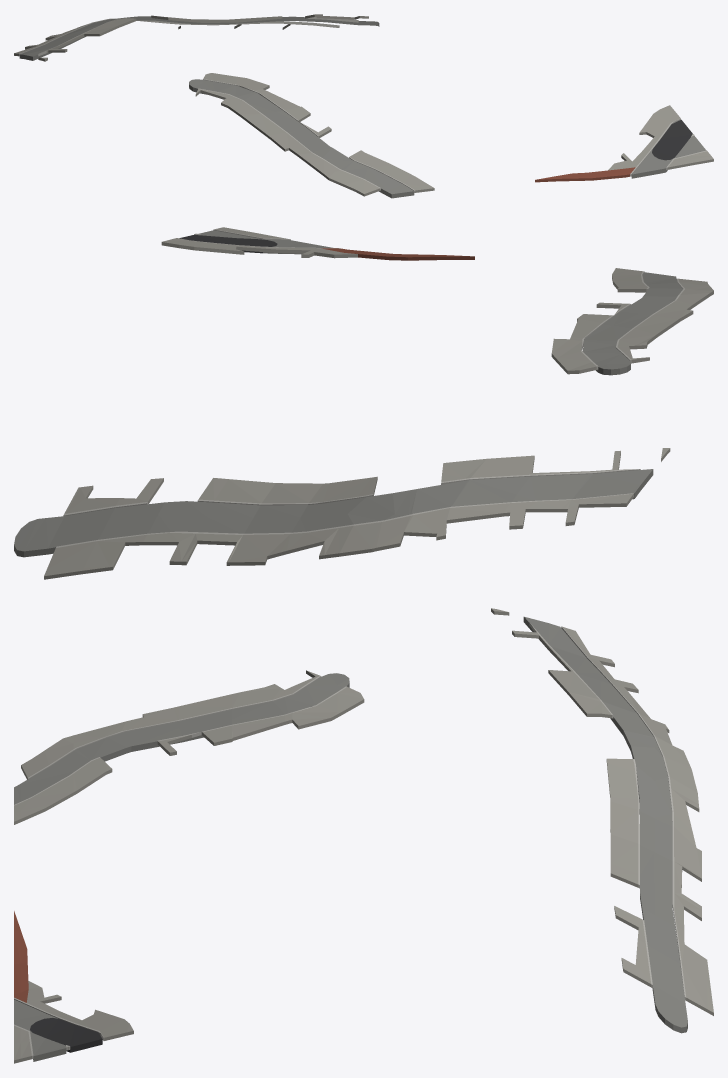
The picture shows the model from 3 angles, top to bottom: view 1: azimuth 30°, elevation 25°; view 2: azimuth 150°, elevation 25°; view 3: azimuth 270°, elevation 25°; orthographic projection. The views are drawn at different scales.
Size of the model in its own units: 147 by 34.81 by 133.
